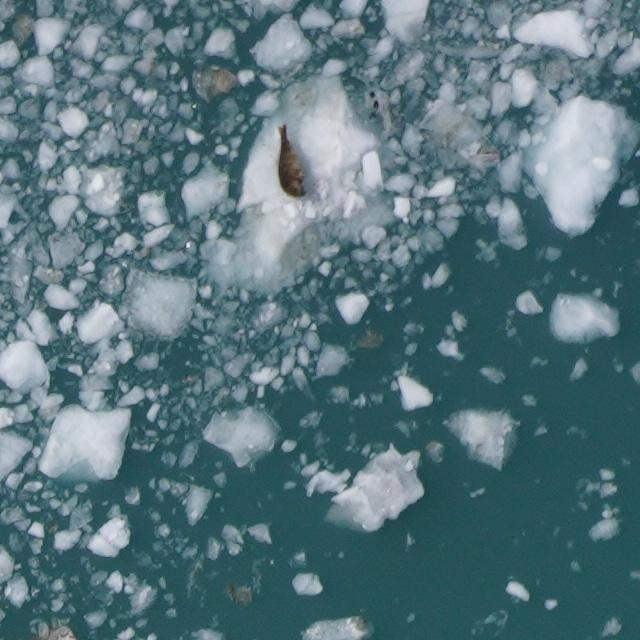seal: (274, 125, 304, 199)
